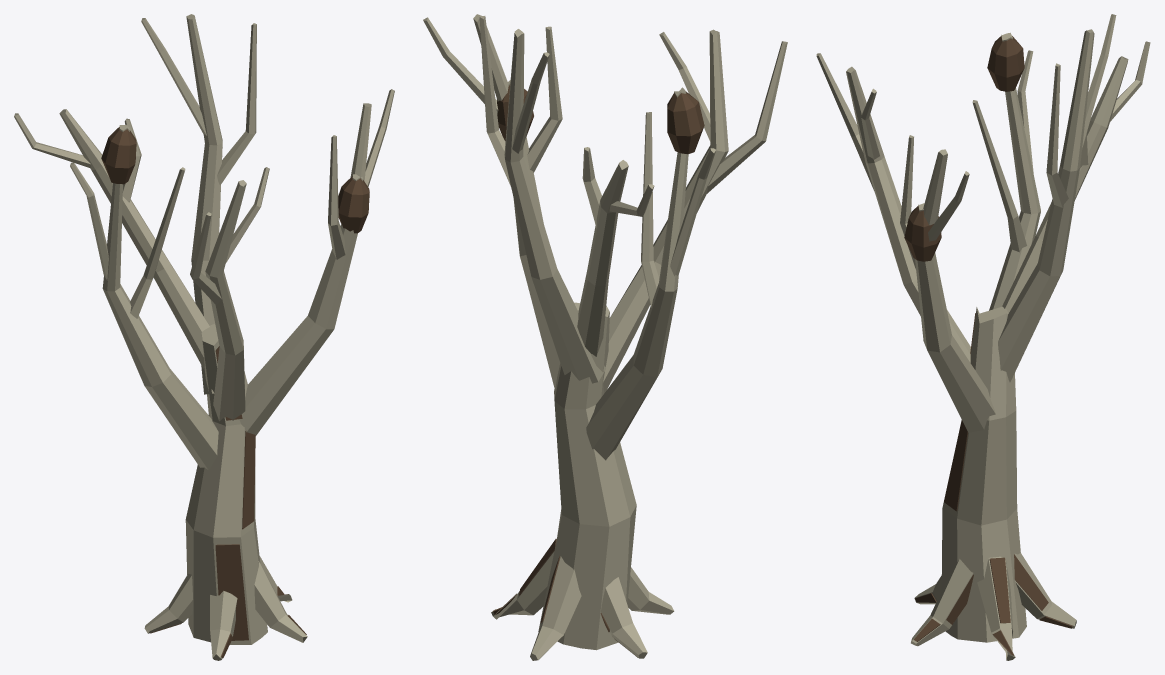
The model's file is prop-banksia-dead.glb.
3 views of the same model, side by side, from view 1: azimuth 30°, elevation 25°; view 2: azimuth 150°, elevation 25°; view 3: azimuth 270°, elevation 25° (orthographic). The views are drawn at different scales.
Visible parts, largest first — view 1: leafless_tree; view 2: leafless_tree; view 3: leafless_tree.
Boxes of the visible parts, x1=… form: leafless_tree: x1=14, y1=14, x2=394, y2=660; leafless_tree: x1=423, y1=14, x2=787, y2=660; leafless_tree: x1=816, y1=14, x2=1150, y2=660.
Size of the model in its own units: 0.731 by 1.37 by 0.6842.
